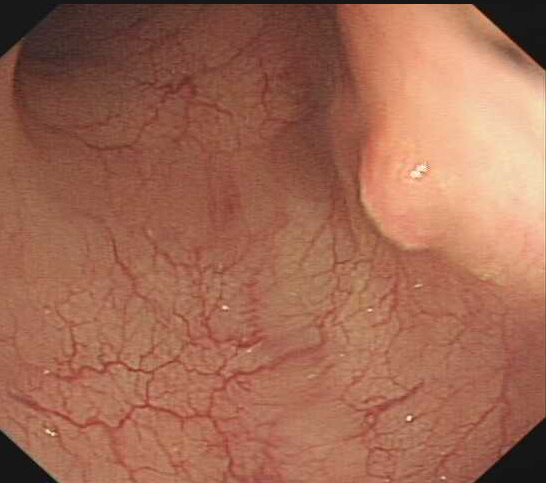adenoma: (356, 132, 442, 251)
